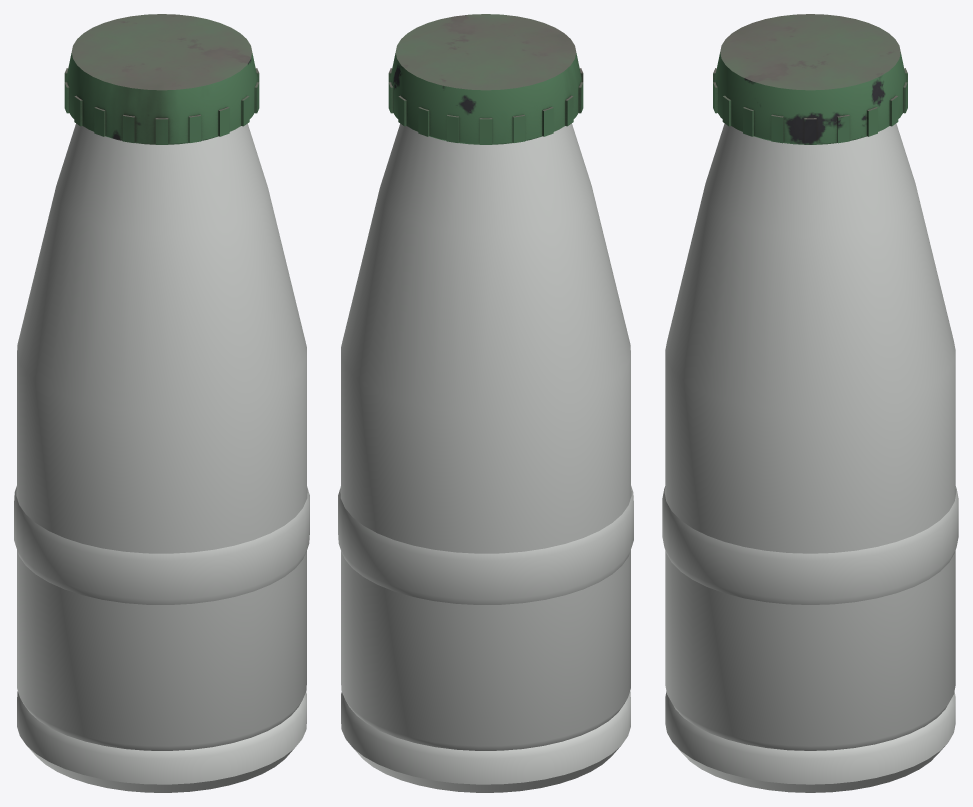
The model's file is SM_MilkBottle_Glass.fbx.
3 renders of one model, left to right at view 1: azimuth 30°, elevation 25°; view 2: azimuth 150°, elevation 25°; view 3: azimuth 270°, elevation 25°, orthographic.
Visible parts, largest first — view 1: SM_MilkBottle_Glass; view 2: SM_MilkBottle_Glass; view 3: SM_MilkBottle_Glass.
Part boxes in pixels (bbox=[...]): SM_MilkBottle_Glass: bbox=[14, 14, 309, 792]; SM_MilkBottle_Glass: bbox=[338, 14, 633, 792]; SM_MilkBottle_Glass: bbox=[662, 14, 958, 792].
Size of the model in its own units: 0.0836 by 0.214 by 0.0836.
Materials: 2 (1 with a texture image).
